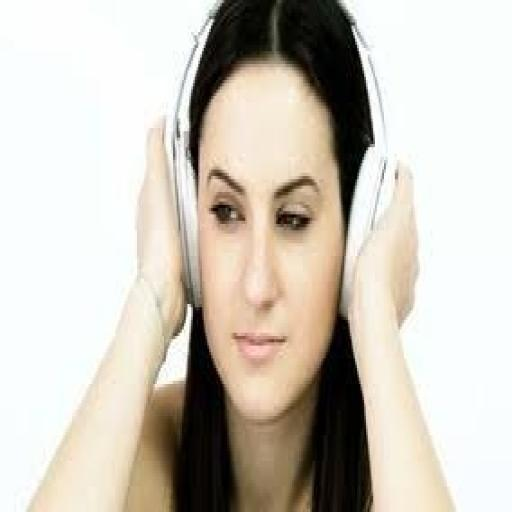listening_to_music: (20, 0, 463, 509)
